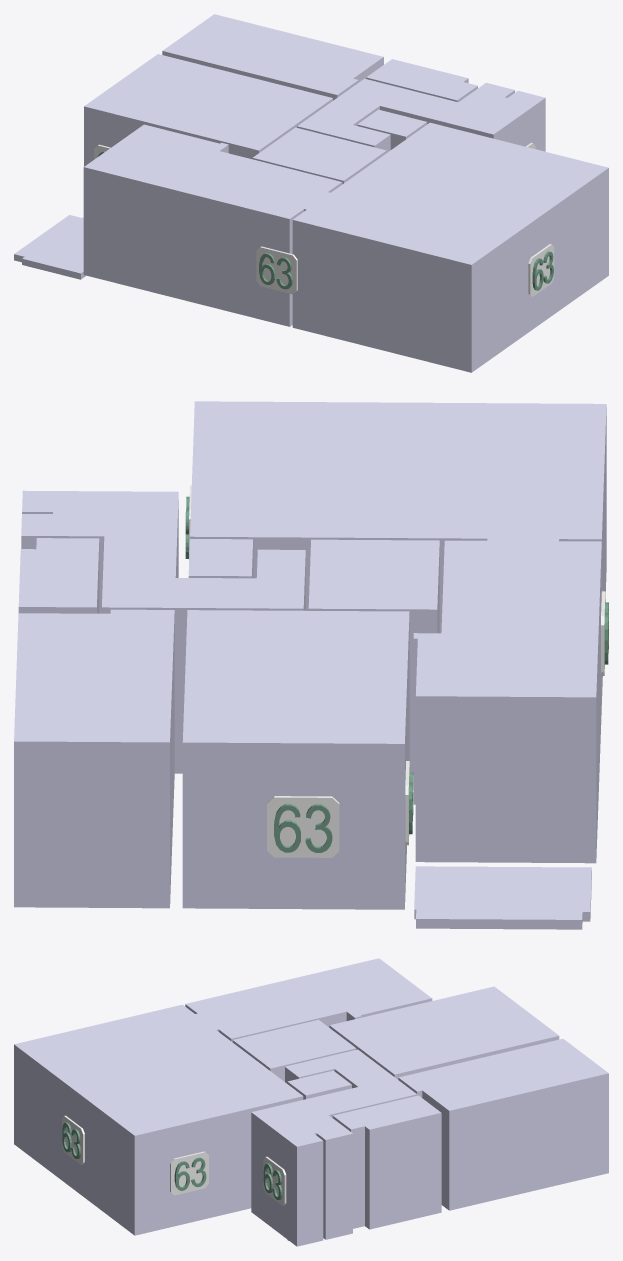
3 renders of one model, top to bottom at view 1: azimuth 30°, elevation 25°; view 2: azimuth 150°, elevation 25°; view 3: azimuth 270°, elevation 25°, orthographic. The views are drawn at different scales.
Visible parts, largest first — view 1: g_1, g_0, g_3, g_7, g_4, g_2, g_8, g_5, g_6, g_23, g_11; view 2: g_3, g_1, g_0, g_4, g_7, g_8, g_2, g_5, g_17, g_6, g_16; view 3: g_1, g_4, g_7, g_3, g_5, g_0, g_2, g_6, g_20, g_14, g_11.
Part boxes in pixels (x1,y1,x2,y2): g_1: [292, 122, 608, 372]; g_0: [83, 124, 342, 326]; g_3: [84, 54, 332, 166]; g_7: [297, 78, 545, 152]; g_4: [162, 14, 383, 100]; g_2: [252, 127, 386, 184]; g_8: [14, 215, 85, 279]; g_5: [366, 59, 477, 102]; g_6: [357, 109, 427, 149]; g_23: [256, 246, 297, 294]; g_11: [528, 244, 554, 296]; g_3: [182, 610, 409, 909]; g_1: [190, 401, 606, 704]; g_0: [413, 539, 601, 863]; g_4: [14, 609, 174, 908]; g_7: [21, 490, 305, 773]; g_8: [414, 866, 591, 929]; g_2: [308, 539, 439, 774]; g_5: [18, 538, 99, 613]; g_17: [267, 796, 339, 857]; g_6: [188, 539, 253, 578]; g_16: [274, 804, 300, 852]; g_1: [14, 1004, 303, 1235]; g_4: [398, 1038, 608, 1210]; g_7: [251, 1049, 416, 1246]; g_3: [329, 986, 559, 1079]; g_5: [332, 1095, 441, 1229]; g_0: [185, 958, 432, 1042]; g_2: [232, 1019, 356, 1081]; g_6: [287, 1070, 351, 1099]; g_20: [170, 1151, 208, 1195]; g_14: [263, 1156, 286, 1205]; g_11: [62, 1115, 84, 1164].
Bounding box in the file's own units: 11.18 × 2.74 × 13.9.
